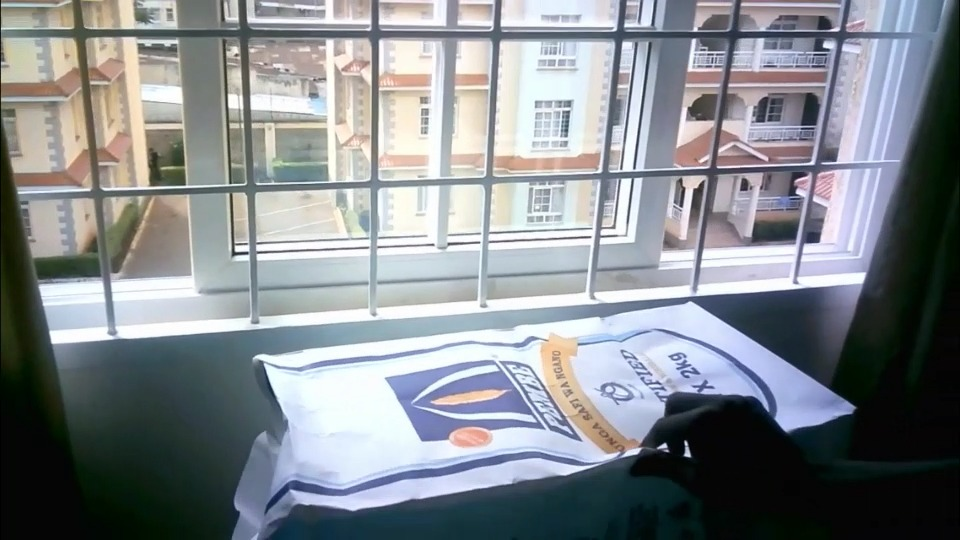wheat_flour_blue_label: (247, 303, 855, 539)
